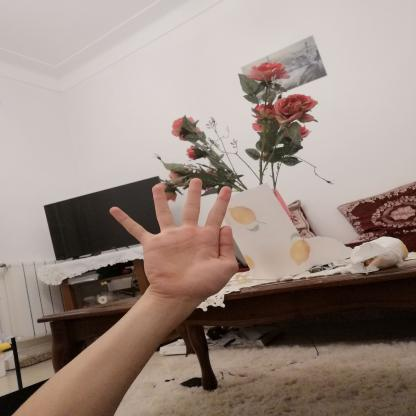SHEEN: (98, 170, 255, 308)
